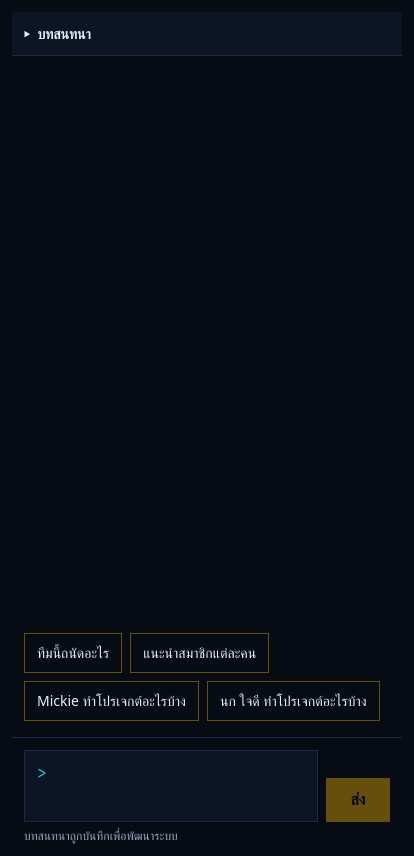
Scenario: ChatPage › sidebar: new quest button and mobile toggle
The width and height of the screenshot is (414, 856).
Click the button "▸ บทสนทนา" at (64, 33), box [12, 12, 402, 56]
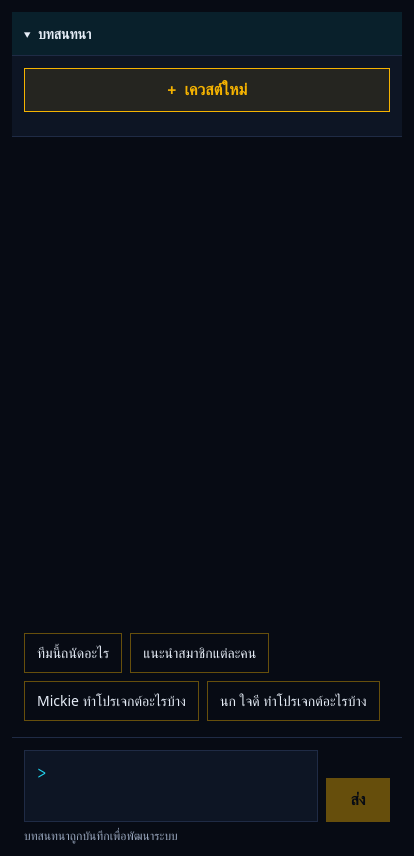
Result: the button "▾ บทสนทนา" is expanded at [12, 12, 402, 56]
Result: the button "+ เควสต์ใหม่" is shown at [24, 68, 390, 112]
